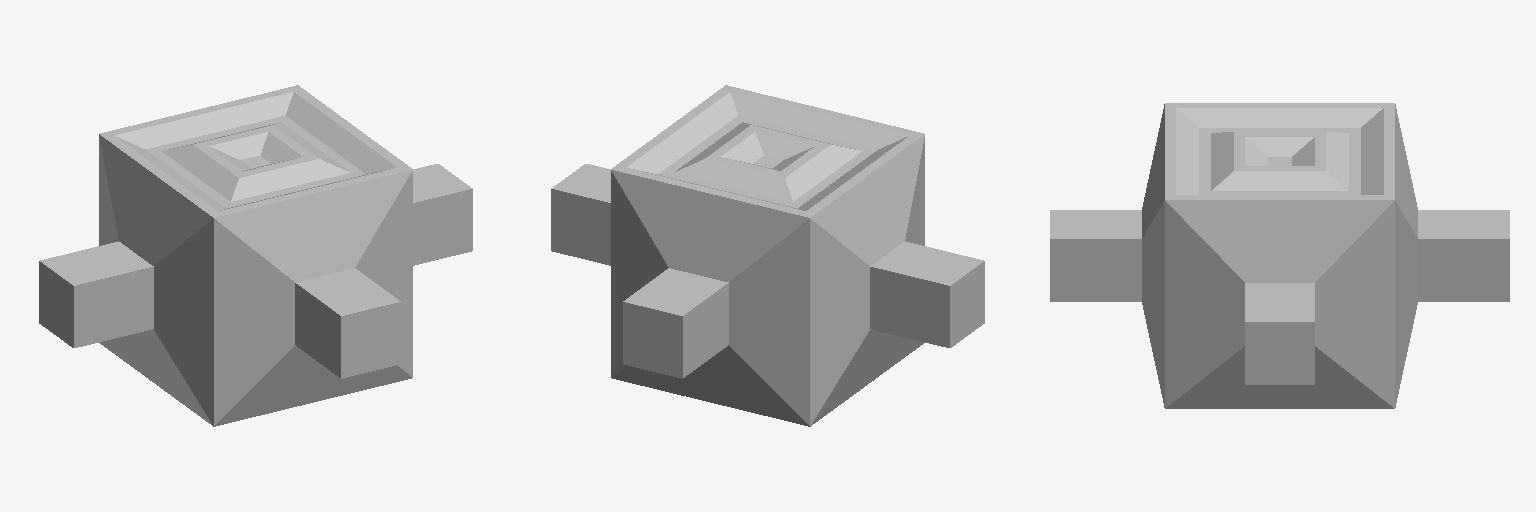
Rendered from generator.obj.
3 renders of one model, left to right at view 1: azimuth 30°, elevation 25°; view 2: azimuth 150°, elevation 25°; view 3: azimuth 270°, elevation 25°, orthographic.
Parts seen in each view (by area): view 1: generator.obj; view 2: generator.obj; view 3: generator.obj.
Part boxes in pixels (x1,y1,x2,y2): generator.obj: (39,85,472,426); generator.obj: (551,85,984,426); generator.obj: (1050,103,1509,408).
Size of the model in its own units: 2 by 1 by 2.